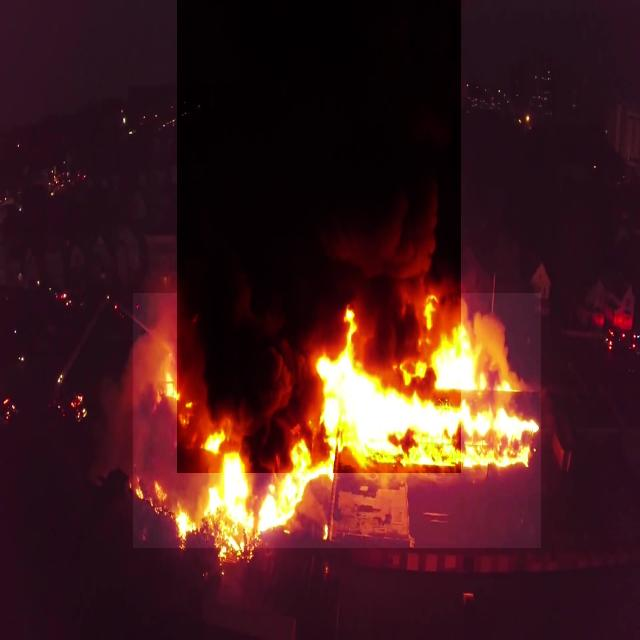Fire: (133, 293, 541, 548)
Smoke: (178, 0, 462, 473)
